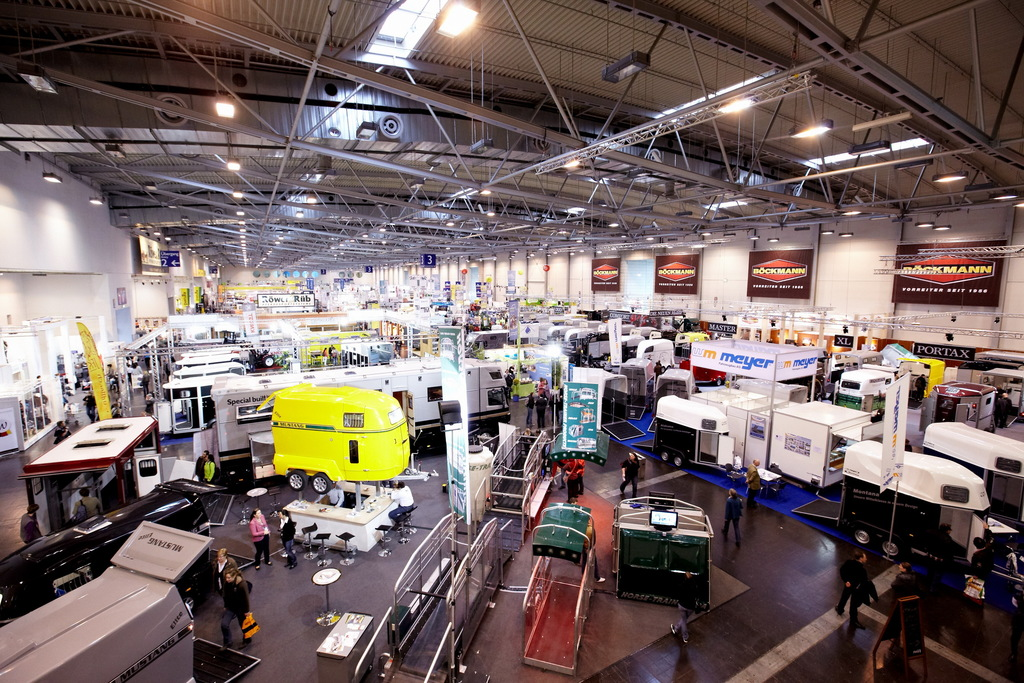Person: (20, 308, 1012, 651)
